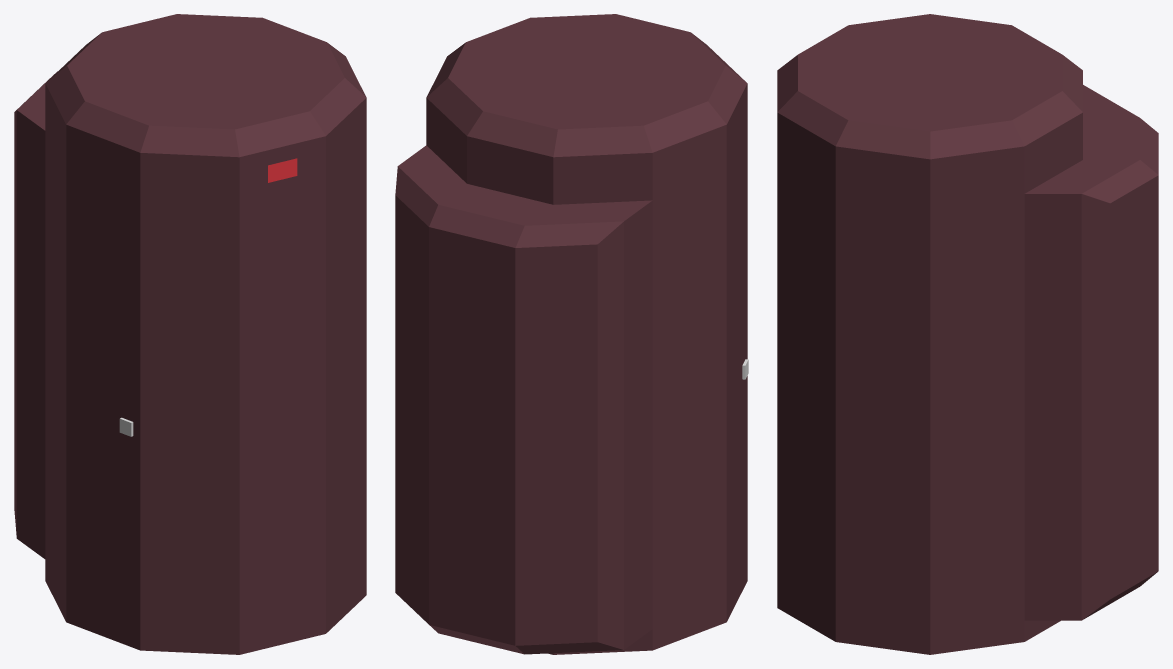
The model's file is scifi-toilet-occupied.fbx.
3 renders of one model, left to right at view 1: azimuth 30°, elevation 25°; view 2: azimuth 150°, elevation 25°; view 3: azimuth 270°, elevation 25°, orthographic.
Parts seen in each view (by area): view 1: scifi-toilet-occupied; view 2: scifi-toilet-occupied; view 3: scifi-toilet-occupied.
Part boxes in pixels (x1,y1,x2,y2): scifi-toilet-occupied: [14, 14, 366, 654]; scifi-toilet-occupied: [395, 14, 748, 654]; scifi-toilet-occupied: [777, 14, 1158, 654].
Bounding box in the file's own units: 1.37 × 2.41 × 1.62.
